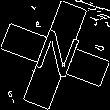N_S: (27, 24, 83, 86)
